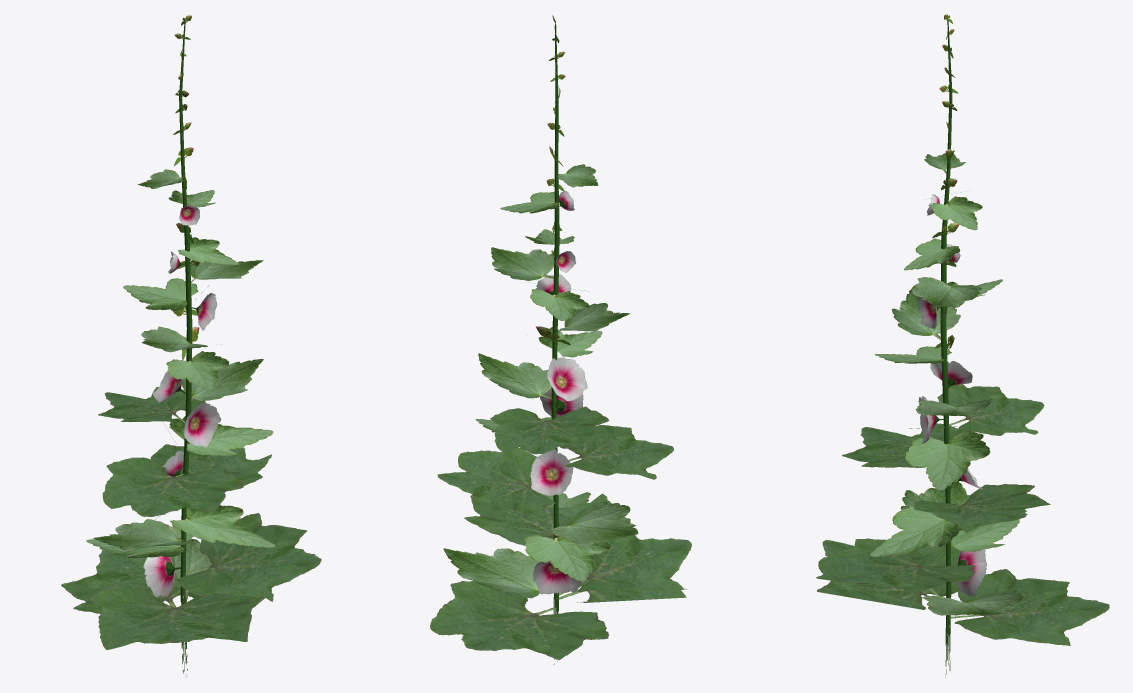
3 renders of one model, left to right at view 1: azimuth 30°, elevation 25°; view 2: azimuth 150°, elevation 25°; view 3: azimuth 270°, elevation 25°, orthographic. The views are drawn at different scales.
Parts seen in each view (by area): view 1: 10033432; view 2: 10033432; view 3: 10033432.
Boxes of the visible parts, x1=… form: 10033432: x1=61, y1=15, x2=321, y2=677; 10033432: x1=430, y1=15, x2=691, y2=664; 10033432: x1=816, y1=14, x2=1109, y2=677.
Bounding box in the file's own units: 0.1296 × 0.2811 × 0.1356.
Materials: 1 (1 with a texture image).
